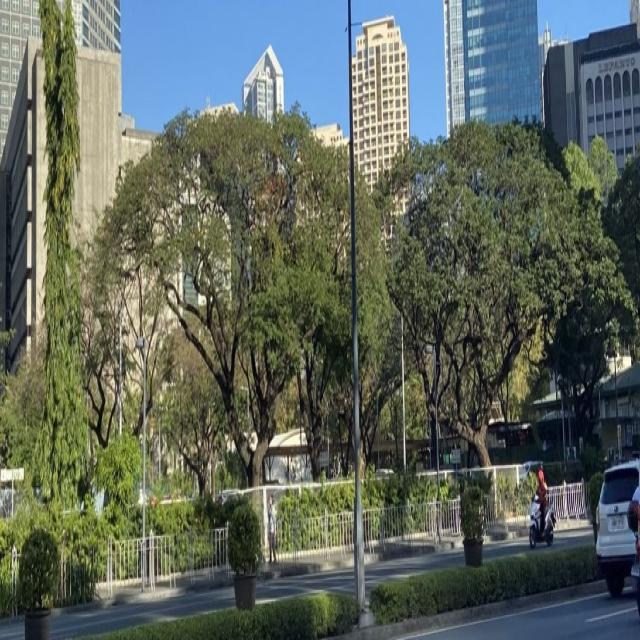Acacia: (88, 103, 386, 488), (363, 98, 614, 456)
